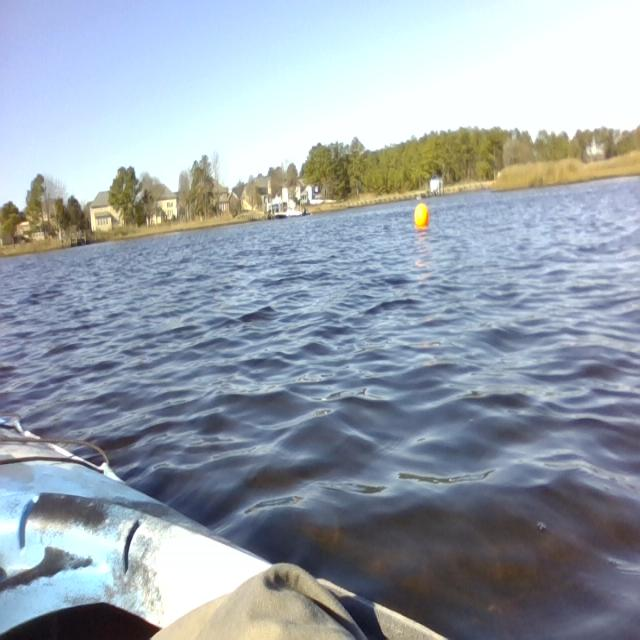Buoy: (410, 200, 433, 237)
